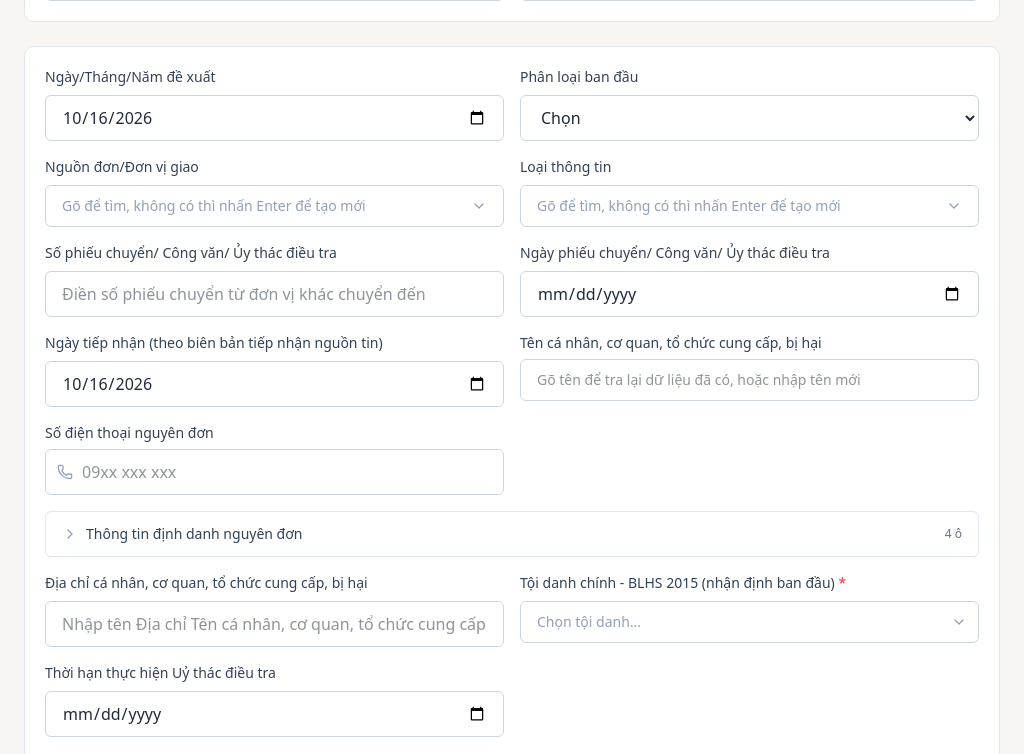
Test: PetitionFormPage — gợi ý từng đơn theo tên người gửi › bấm "Xem thêm" để đọc toàn bộ KHÔNG chọn gợi ý và KHÔNG làm đổi chữ đã gõ
(page scrolled)
Type "tran" into the dropdown with test id "field-senderName" at (750, 380), box [520,359,979,401]
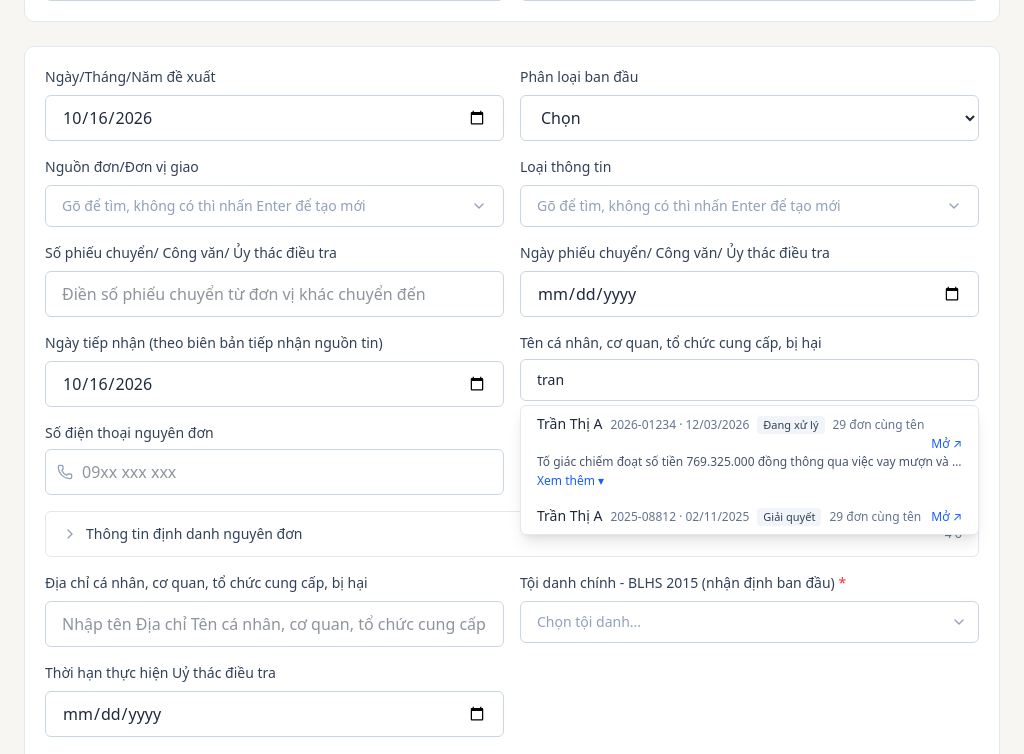
Now the list with test id "field-senderName-goi-y" is shown, box [520,405,979,535]
Click the button "Xem thêm ▾" at (570, 481), box [537,473,604,489]
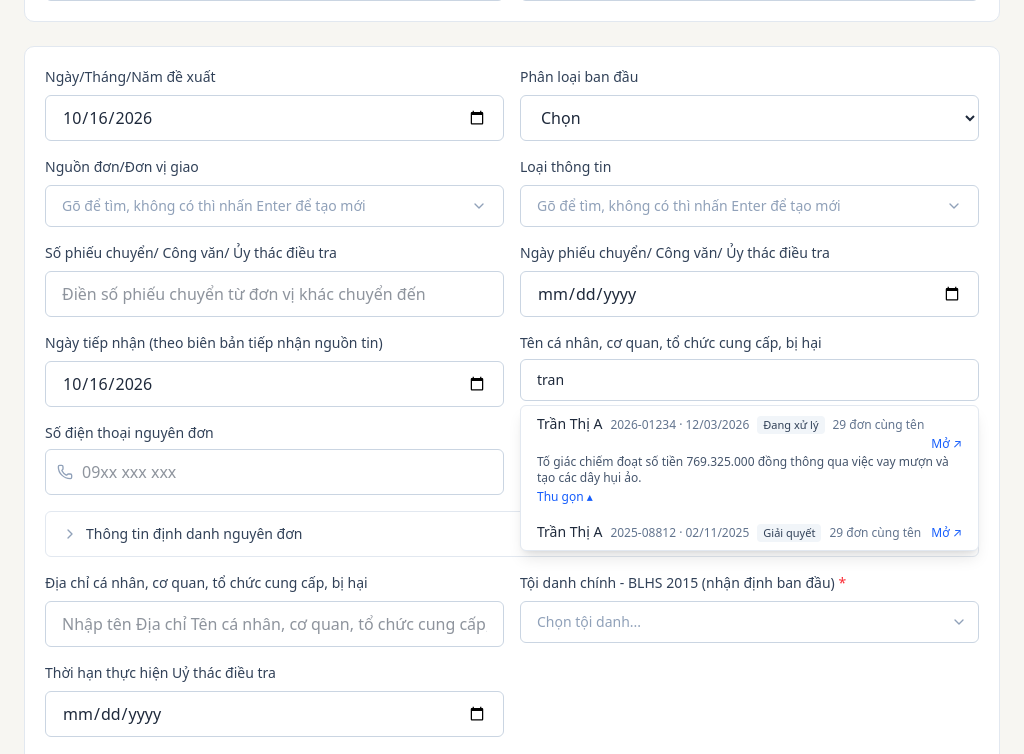
Now the list with test id "field-senderName-goi-y" is shown, box [520,405,979,551]
Now the button "Thu gọn ▴" is shown, box [537,489,593,505]
